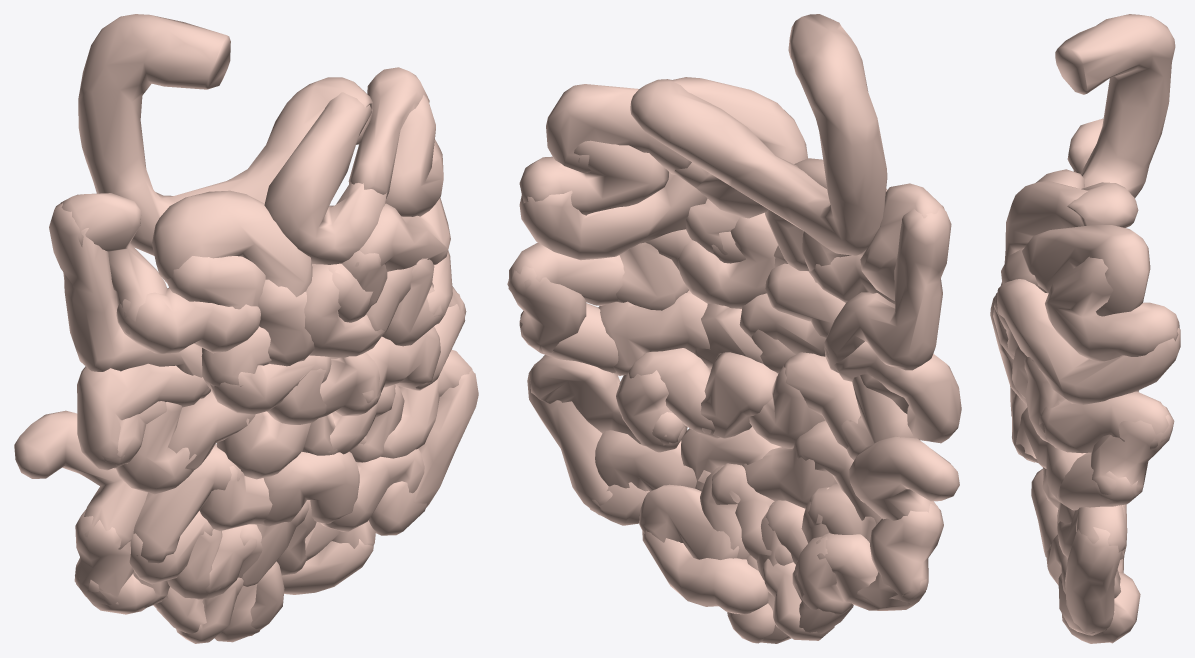
The model's file is small-intestine.glb.
3 views of the same model, side by side, from view 1: azimuth 30°, elevation 25°; view 2: azimuth 150°, elevation 25°; view 3: azimuth 270°, elevation 25° (orthographic). The views are drawn at different scales.
Visible parts, largest first — view 1: small-intestine; view 2: small-intestine; view 3: small-intestine.
Boxes of the visible parts, x1,y1,x2,y2 form: small-intestine: (14, 14, 478, 643); small-intestine: (507, 14, 961, 643); small-intestine: (990, 14, 1180, 643).
Size of the model in its own units: 0.2015 by 0.275 by 0.0811.
